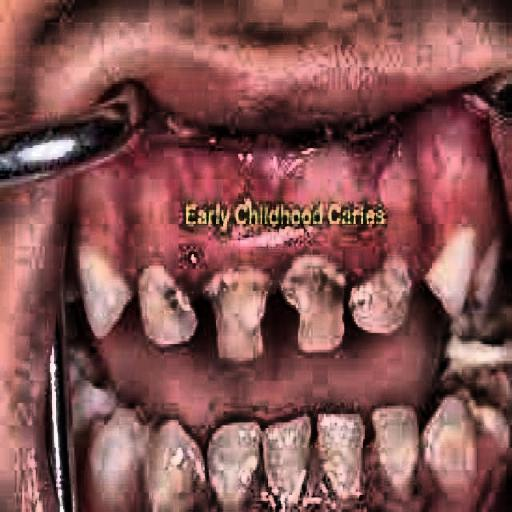Caries: (130, 256, 492, 344), (430, 304, 512, 439)
